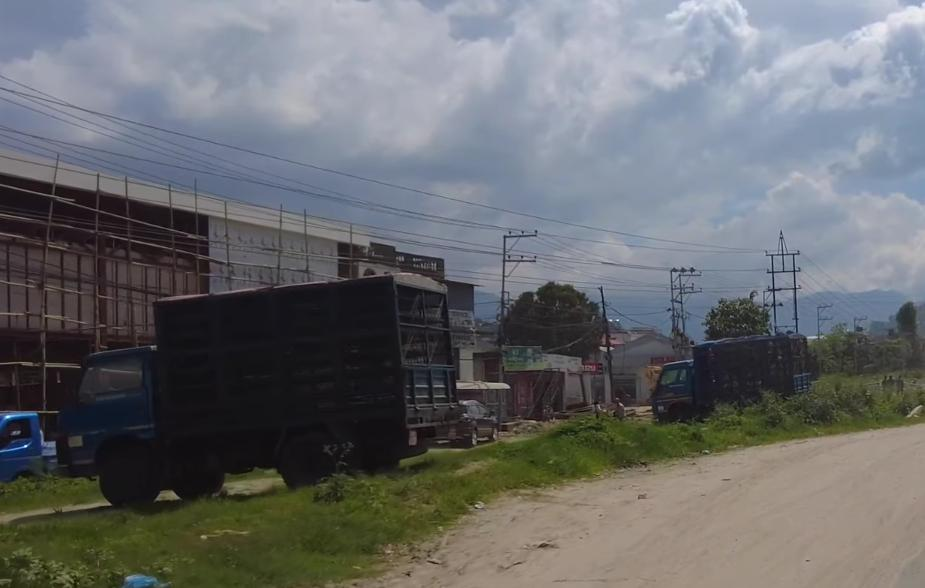car: (450, 383, 500, 454)
mini_truck: (48, 268, 459, 498), (648, 328, 823, 432), (0, 389, 63, 486)
